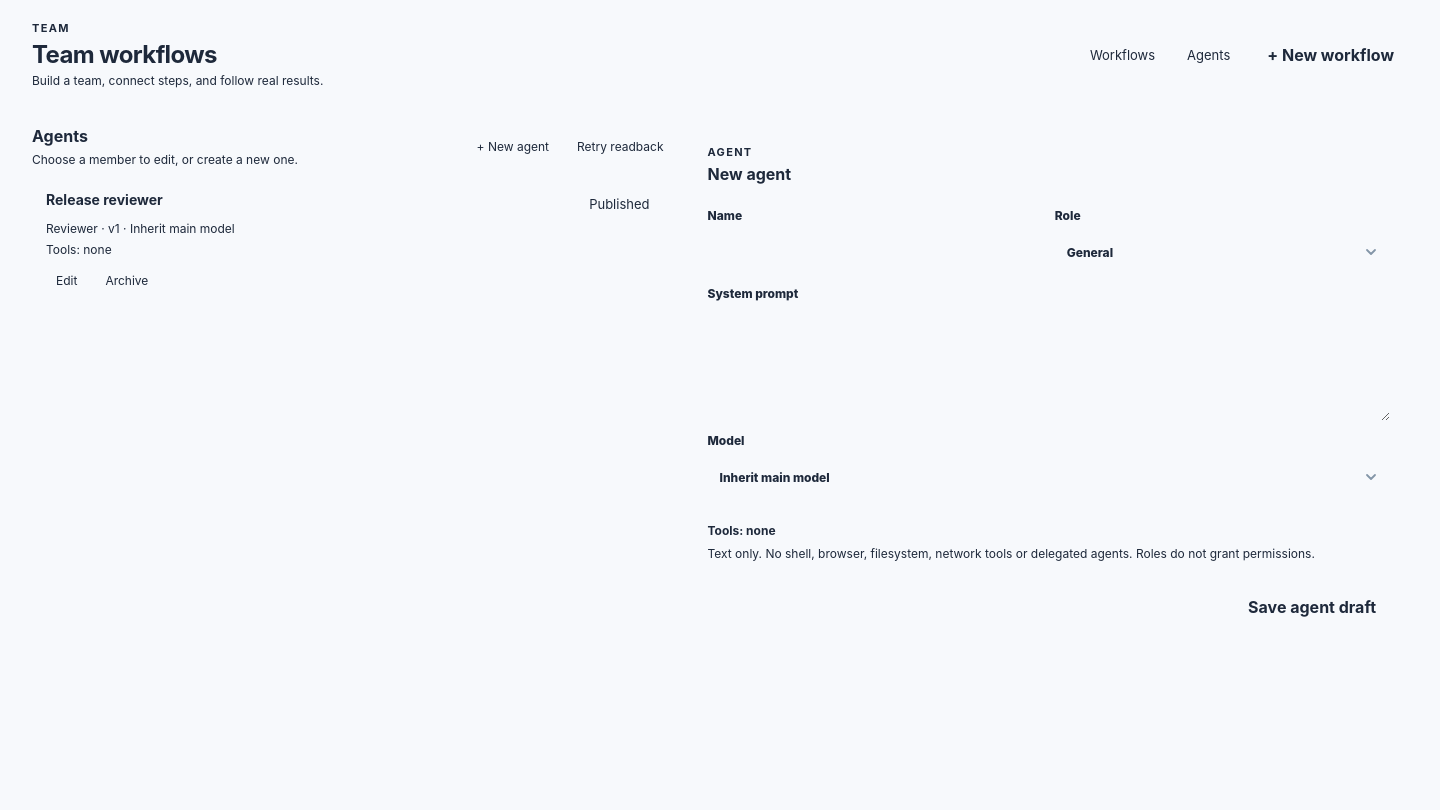
Scenario: Workflow workbench › keeps agent editing visible beside the directory and confirms draft state
Expected: the number of elements with class "workflow-agent-row" is 1, [32, 179, 674, 309]
Expected: the text with class "workflow-status" reads "Published", [589, 196, 650, 212]
Click the button "Edit".
click(67, 282)  # box [46, 267, 87, 297]
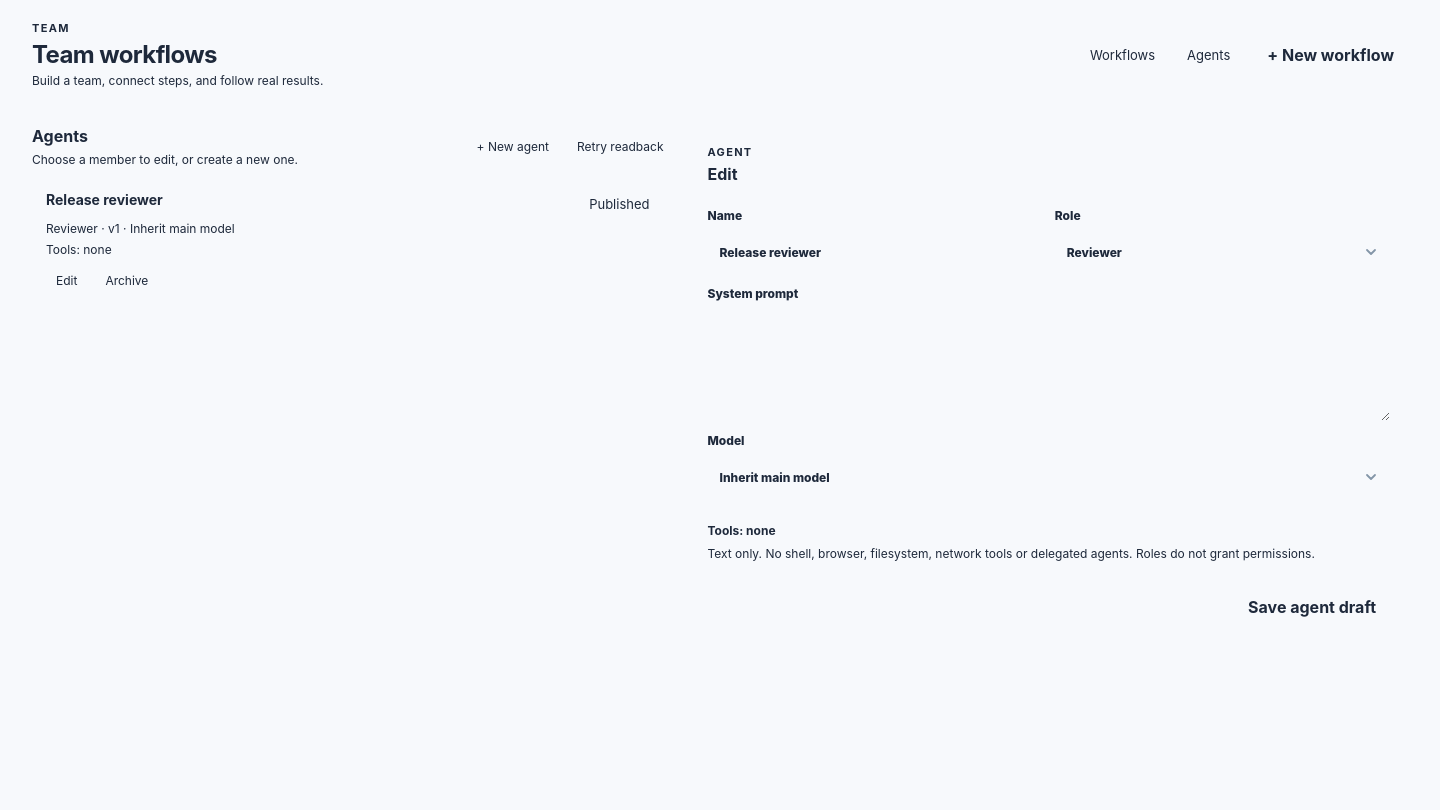
Expected: the field labelled "Name" holds "Release reviewer", [708, 230, 1043, 274]
Submit the form, box [690, 126, 1408, 647]
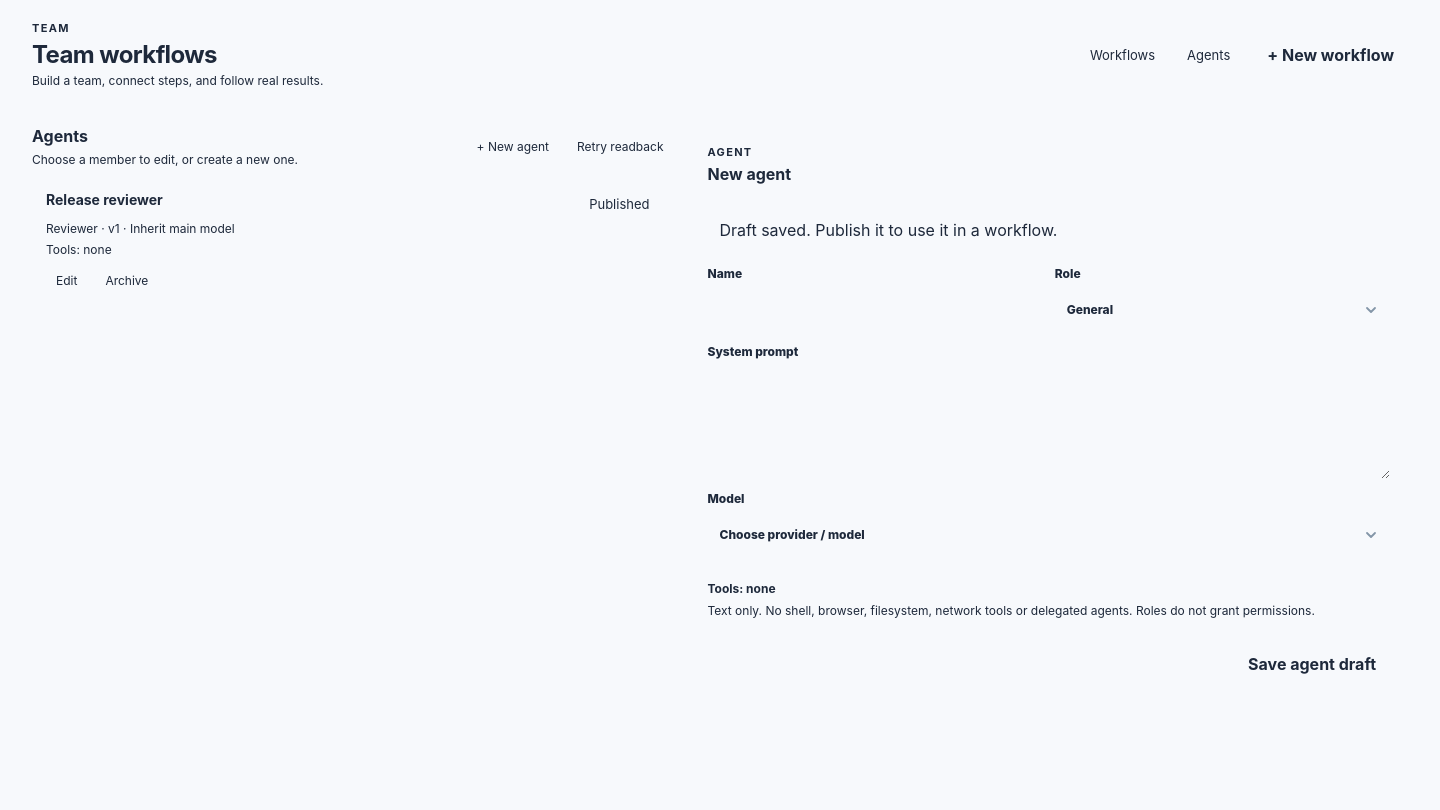
Expected: the message "Draft saved. Publish it to use it in a workflow." is shown, [720, 220, 1057, 240]
Select "Choose provider / model" in the dropdown labelled "Model" at {"x": 1049, "y": 535}, box [708, 513, 1390, 557]
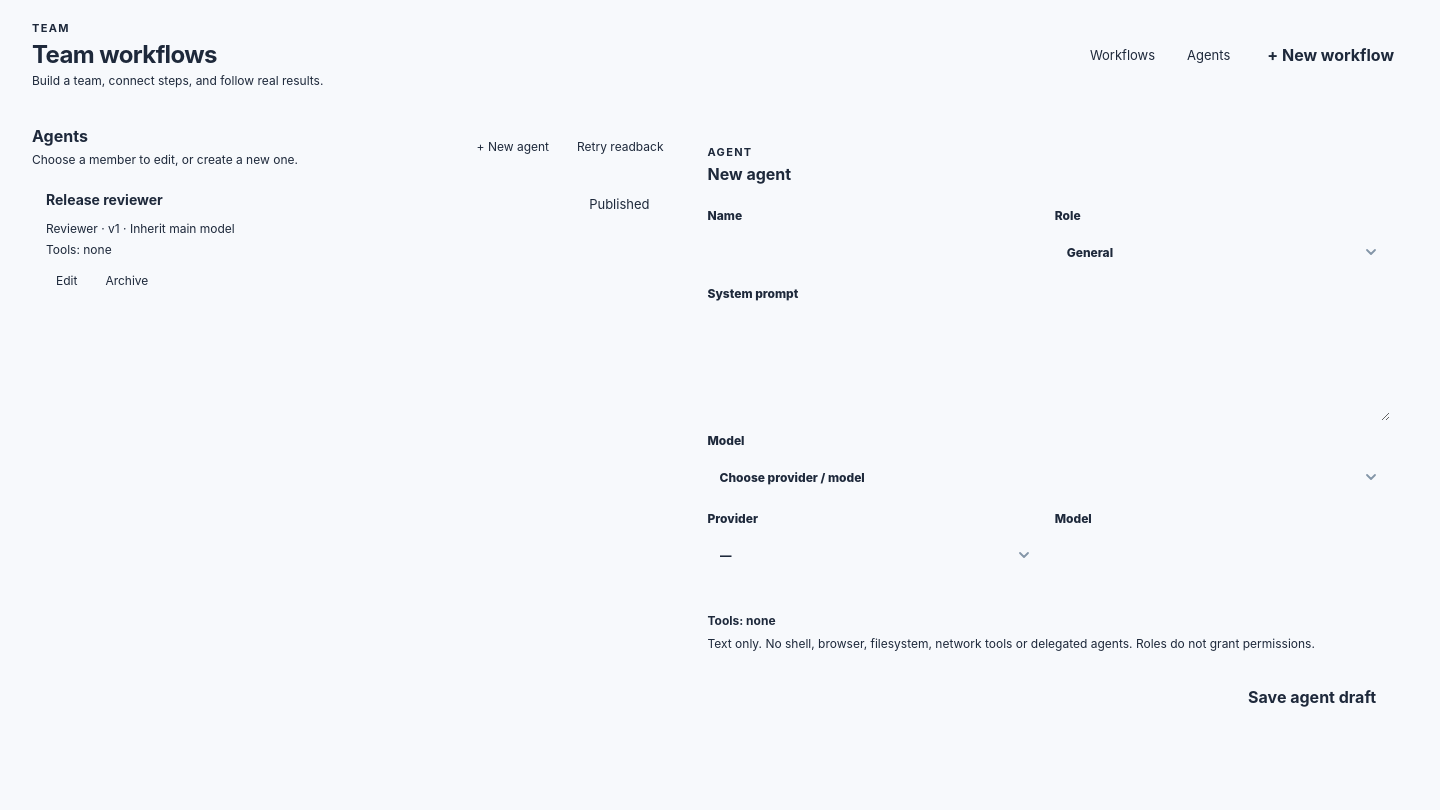
Expected: the message with class "workflow-success" is gone
